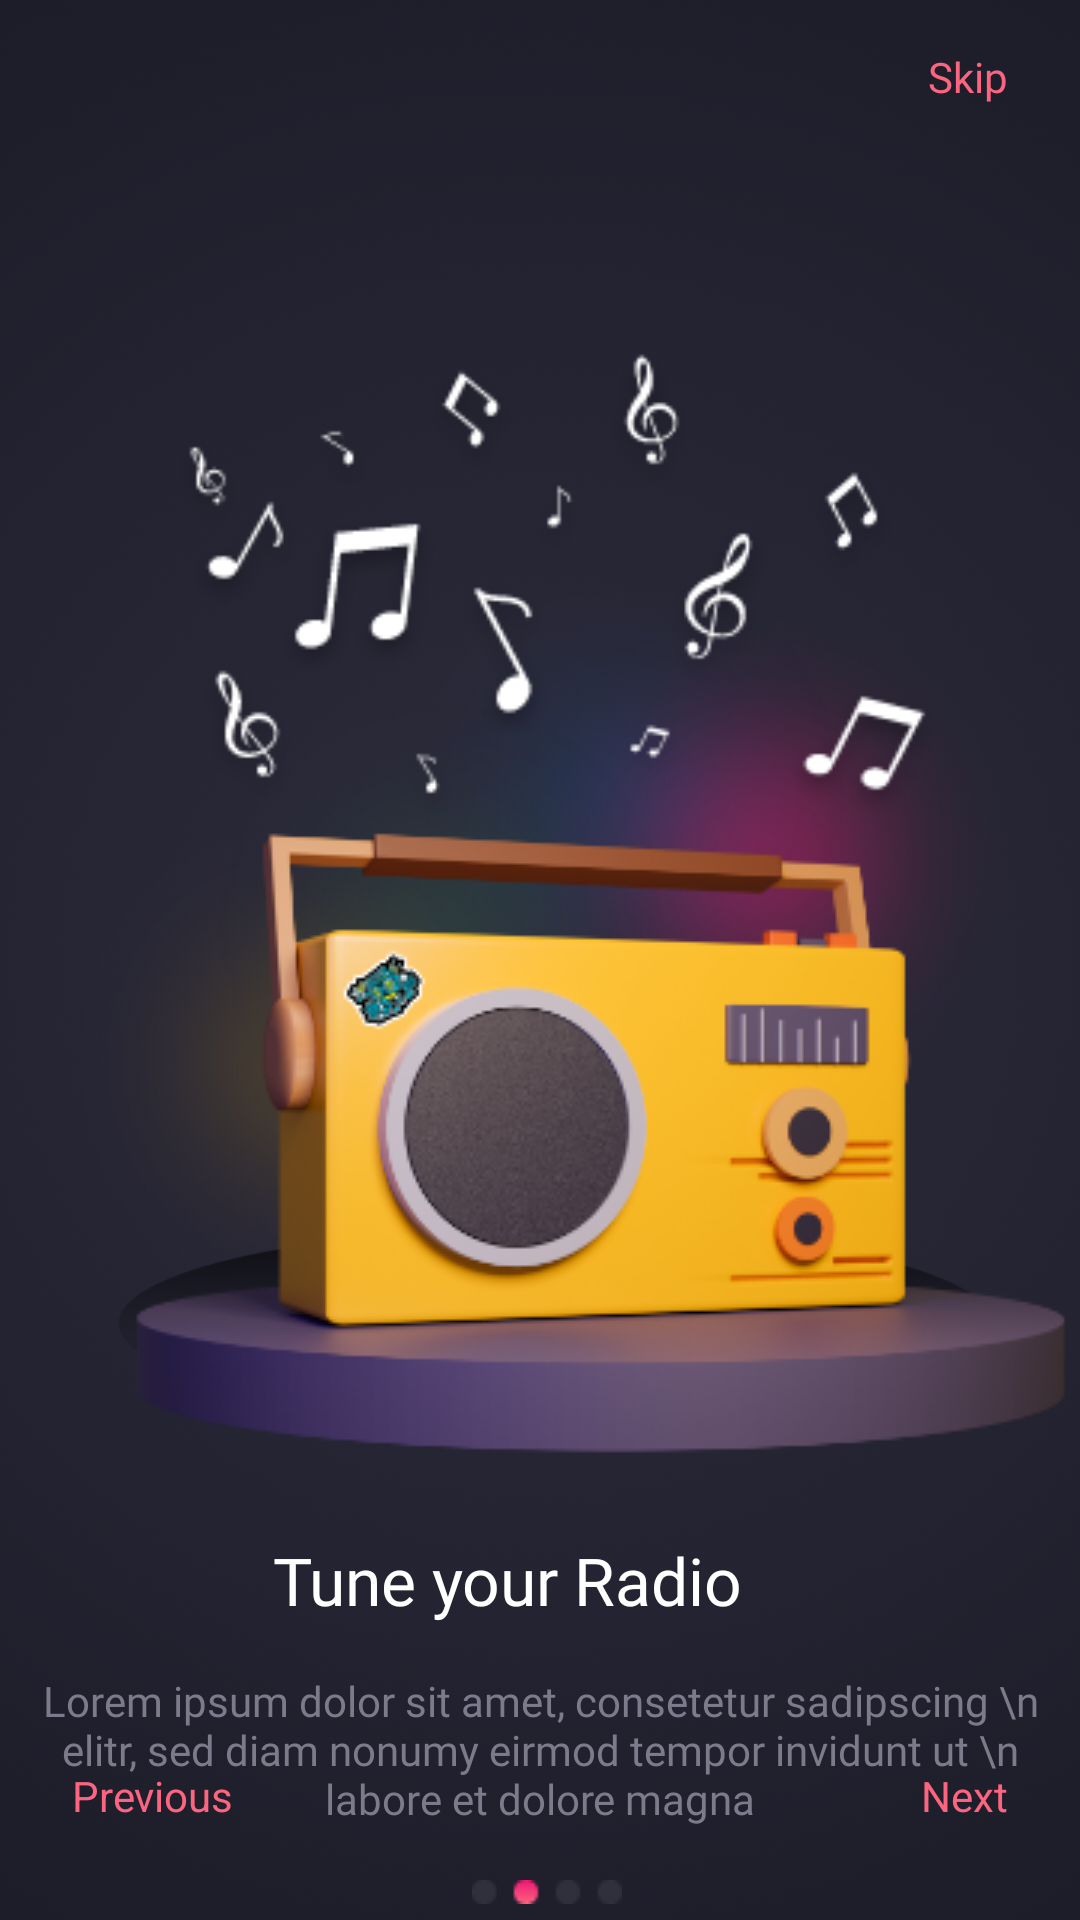

Screen size 1080*1920. Icon name, then its center in pixels as (x,y):
indicetor: (526,1892)
